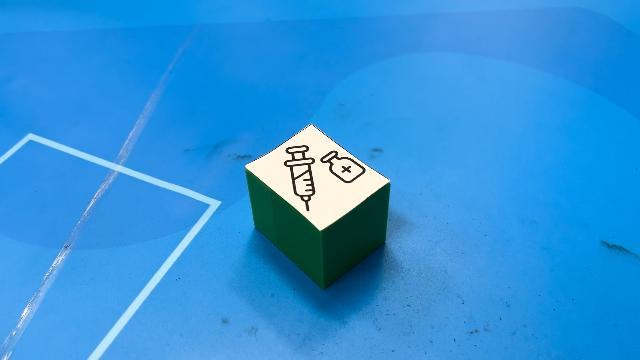syringe: (245, 122, 391, 290)
